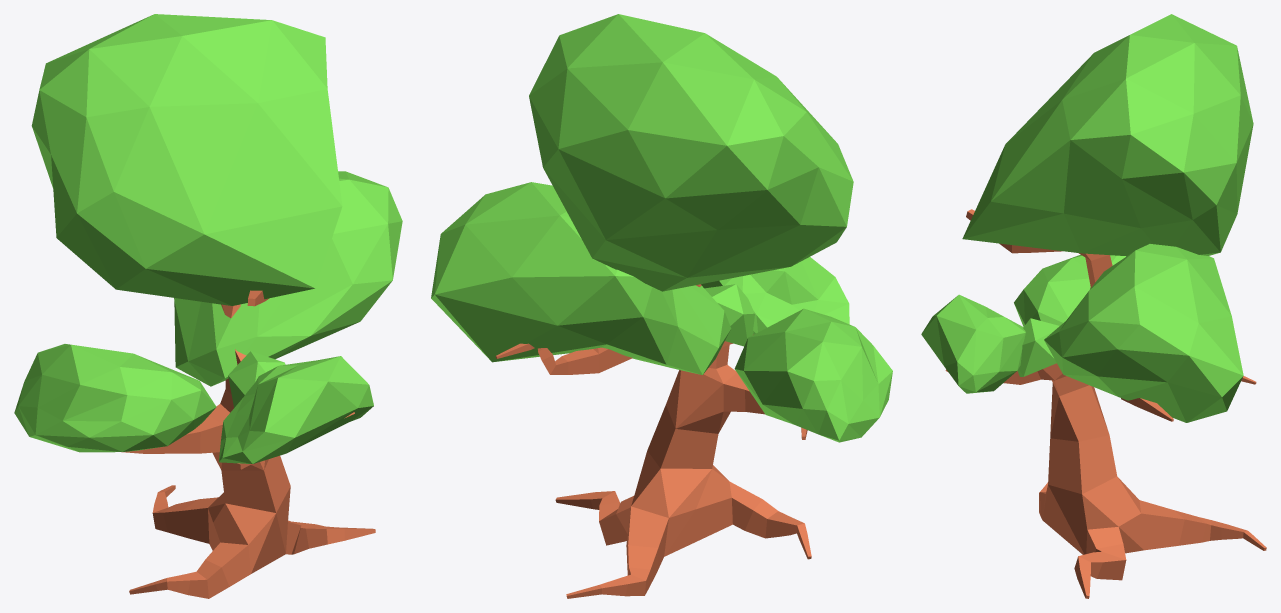
Rendered from SM_TreeLeaves_01.fbx.
3 renders of one model, left to right at view 1: azimuth 30°, elevation 25°; view 2: azimuth 150°, elevation 25°; view 3: azimuth 270°, elevation 25°, orthographic. The views are drawn at different scales.
Parts seen in each view (by area): view 1: Tree_Leaves; view 2: Tree_Leaves; view 3: Tree_Leaves.
Boxes of the visible parts, bbox=[...] form: Tree_Leaves: bbox=[14, 14, 402, 598]; Tree_Leaves: bbox=[431, 14, 892, 598]; Tree_Leaves: bbox=[921, 14, 1266, 598].
Size of the model in its own units: 8.51 by 11.16 by 7.
